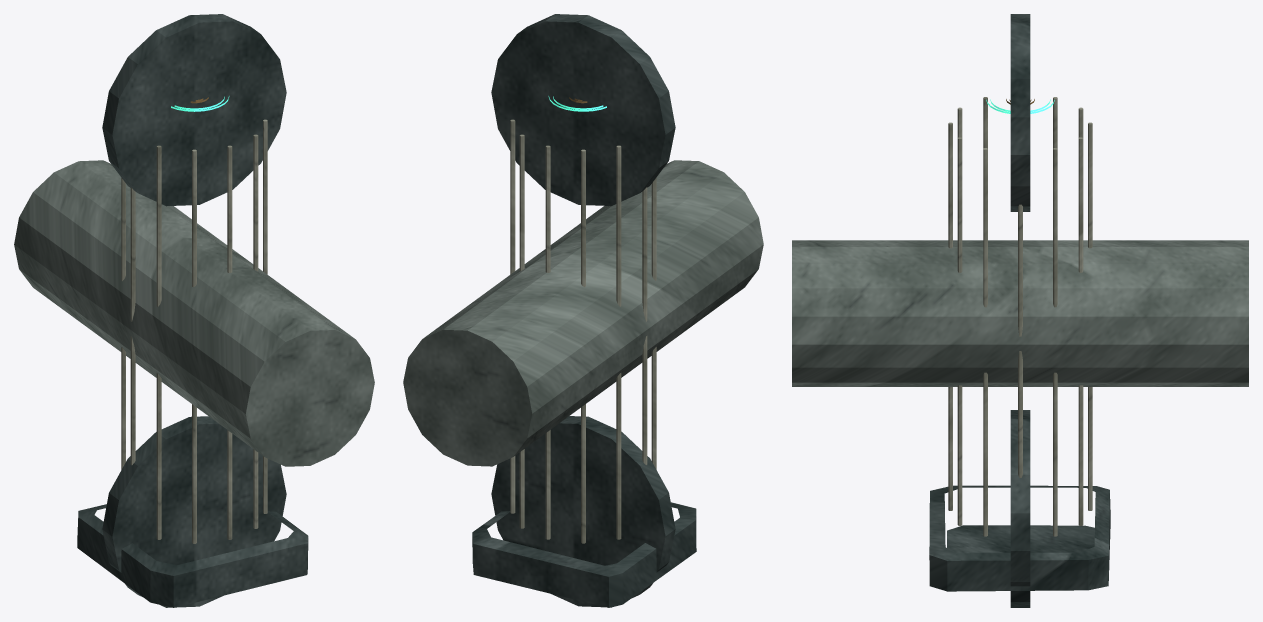
Rendered from 0296_fluted_column_21.glb.
3 views of the same model, side by side, from view 1: azimuth 30°, elevation 25°; view 2: azimuth 150°, elevation 25°; view 3: azimuth 270°, elevation 25° (orthographic).
Visible parts, largest first — view 1: stone, stone_dark, stone_light; view 2: stone, stone_dark, stone_light; view 3: stone, stone_dark, stone_light.
Part boxes in pixels (box(x1,y1,x2,y2)): stone: box(14, 160, 374, 466); stone_dark: box(77, 14, 308, 607); stone_light: box(121, 119, 267, 543); stone: box(403, 160, 763, 466); stone_dark: box(472, 14, 696, 607); stone_light: box(510, 119, 656, 543); stone: box(792, 240, 1248, 386); stone_dark: box(929, 14, 1110, 607); stone_light: box(948, 97, 1092, 536).
Bounding box in the file's own units: 1.39 × 4.46 × 3.2.
5 materials, 5 textured.
